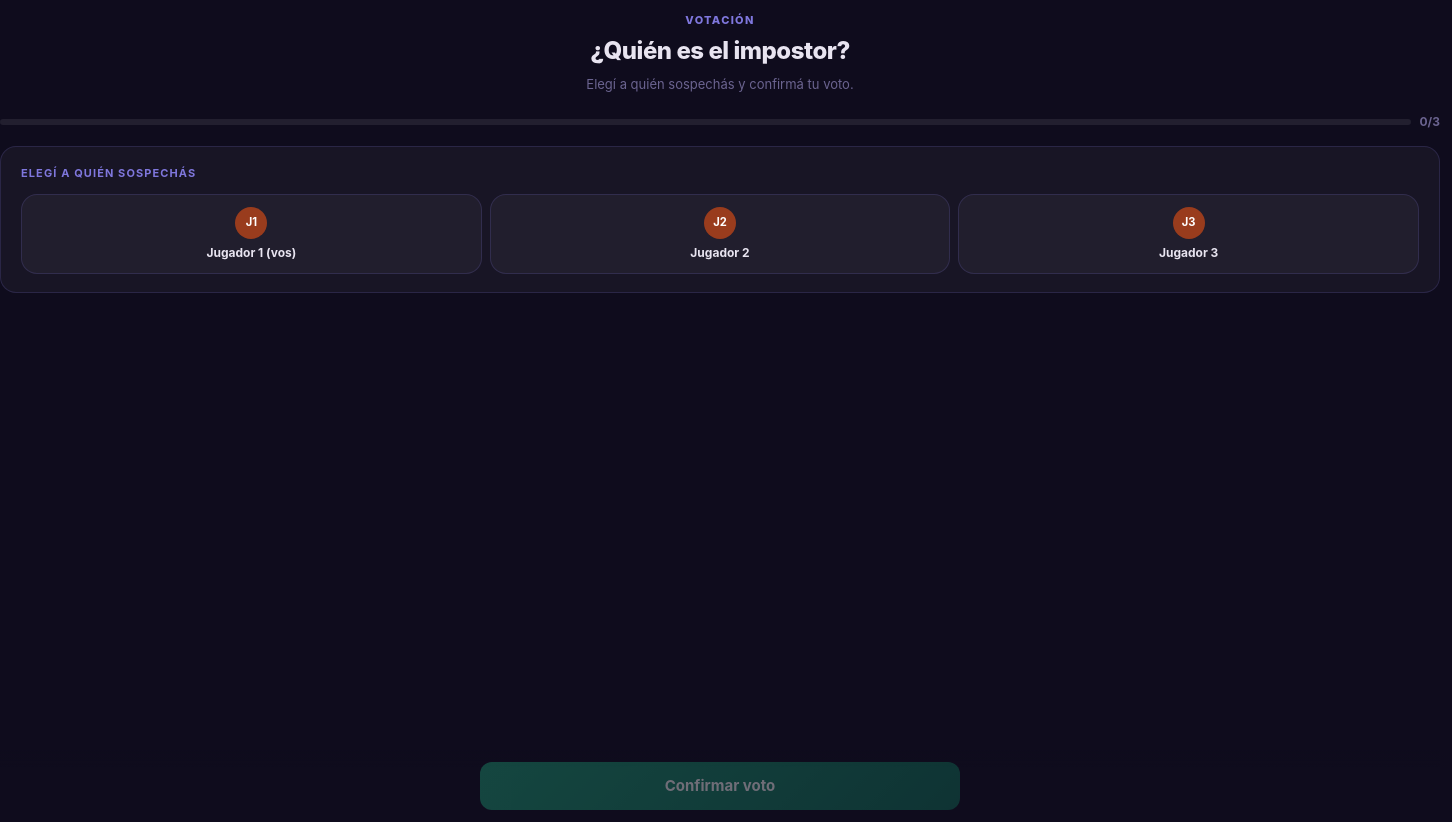
Test: Impostor RoundView — voting phase › selecting a suspect and confirming sends a vote for that player
Expected: the button "J1 Jugador 1 (vos)" is shown, [21,194,482,274]
Click the button "J2 Jugador 2" at x=720, y=234, box [490,194,950,274]
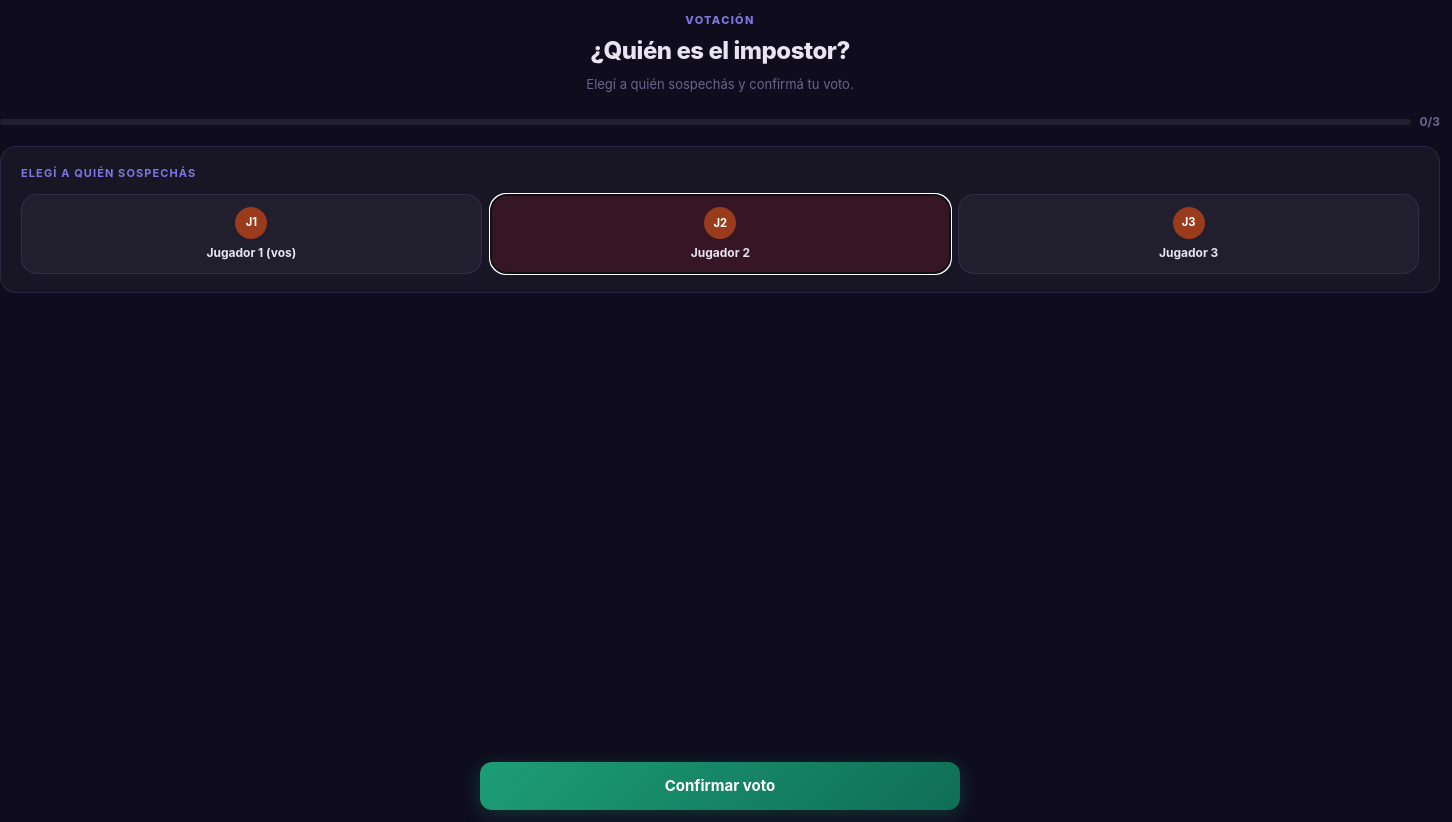
Click the button "Confirmar voto" at x=720, y=786, box [480,762,960,810]
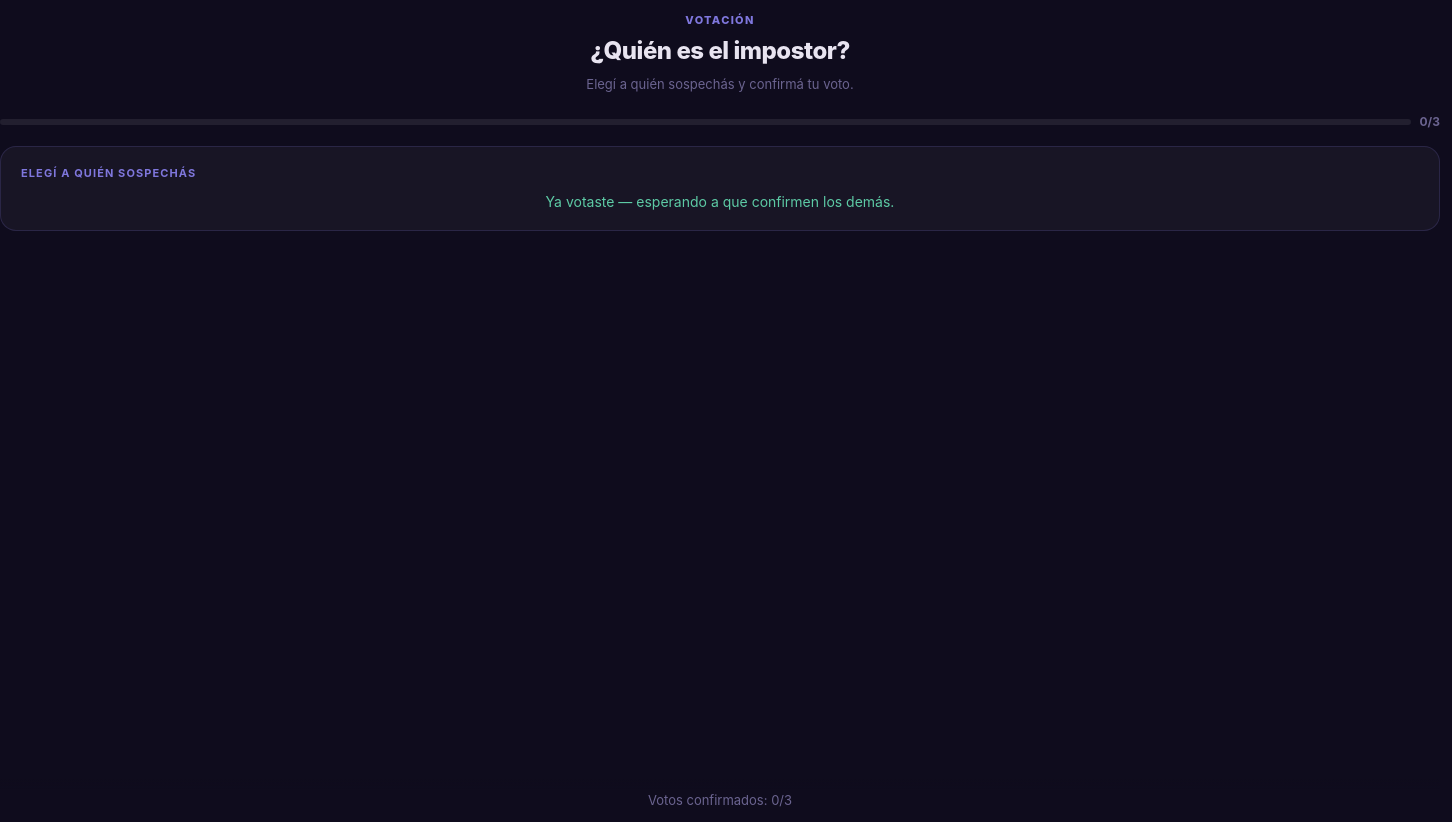
Expected: the text "Ya votaste — esperando a que confirmen los demás." is shown, [546,192,894,210]
